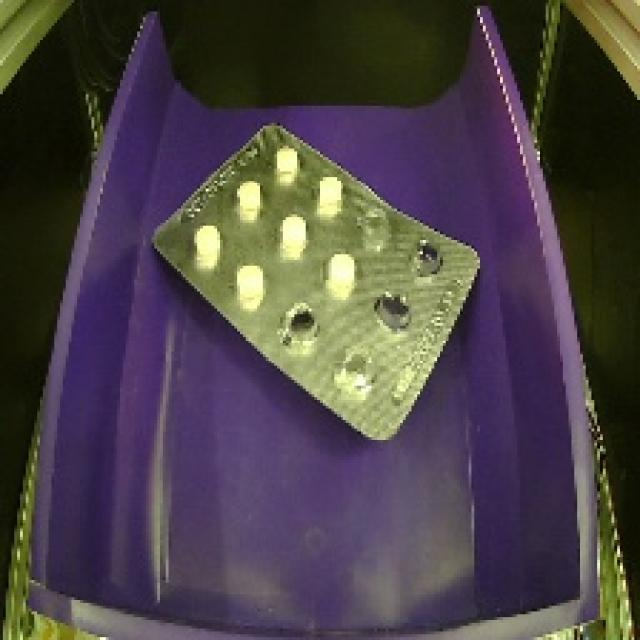med_plate: (131, 112, 497, 452)
